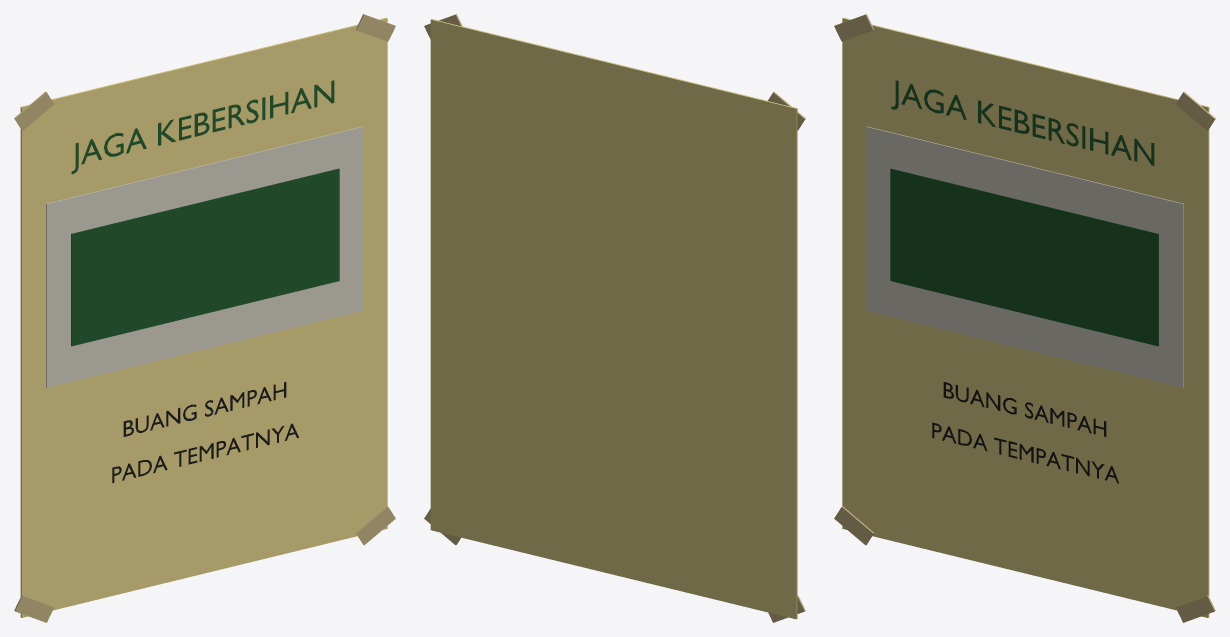
File: poster_a.glb
3 views of the same model, side by side, from view 1: azimuth 30°, elevation 25°; view 2: azimuth 150°, elevation 25°; view 3: azimuth 330°, elevation 25° (orthographic).
Parts seen in each view (by area): view 1: PosterA; view 2: PosterA; view 3: PosterA.
Part boxes in pixels (x1=…): PosterA: x1=14, y1=14, x2=395, y2=622; PosterA: x1=424, y1=14, x2=805, y2=622; PosterA: x1=834, y1=14, x2=1215, y2=622.
Bounding box in the file's own units: 0.6245 × 0.8317 × 0.0055.
